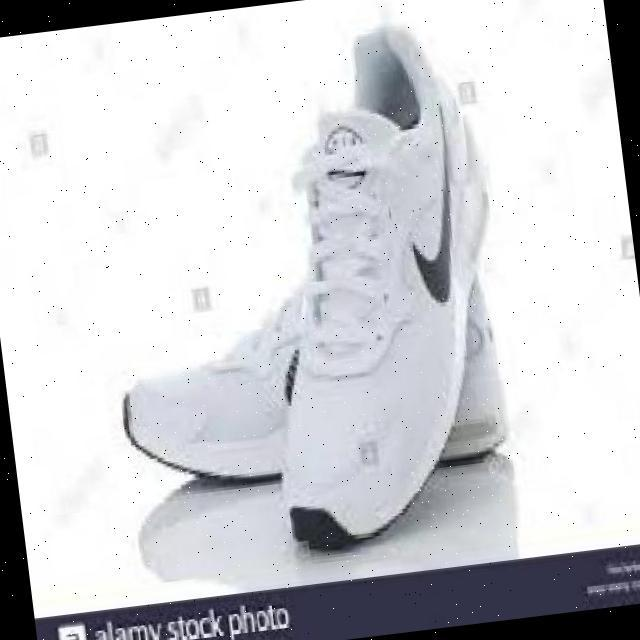Nike: (384, 93, 466, 306)
